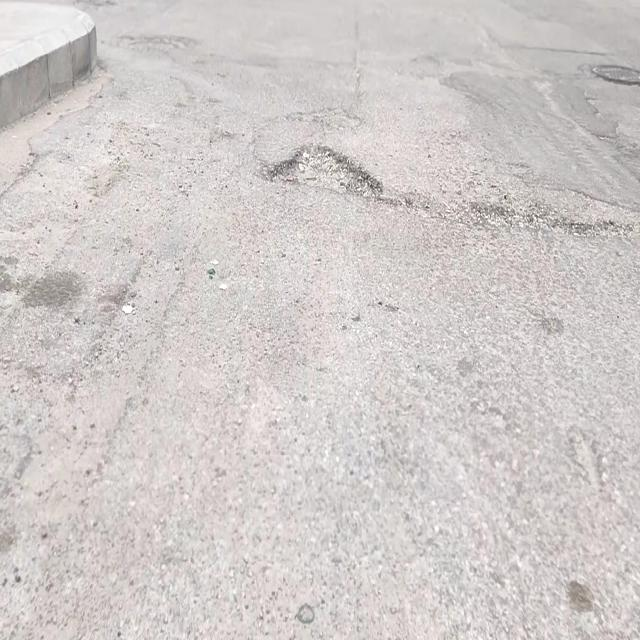Potholes: (270, 140, 383, 202)
